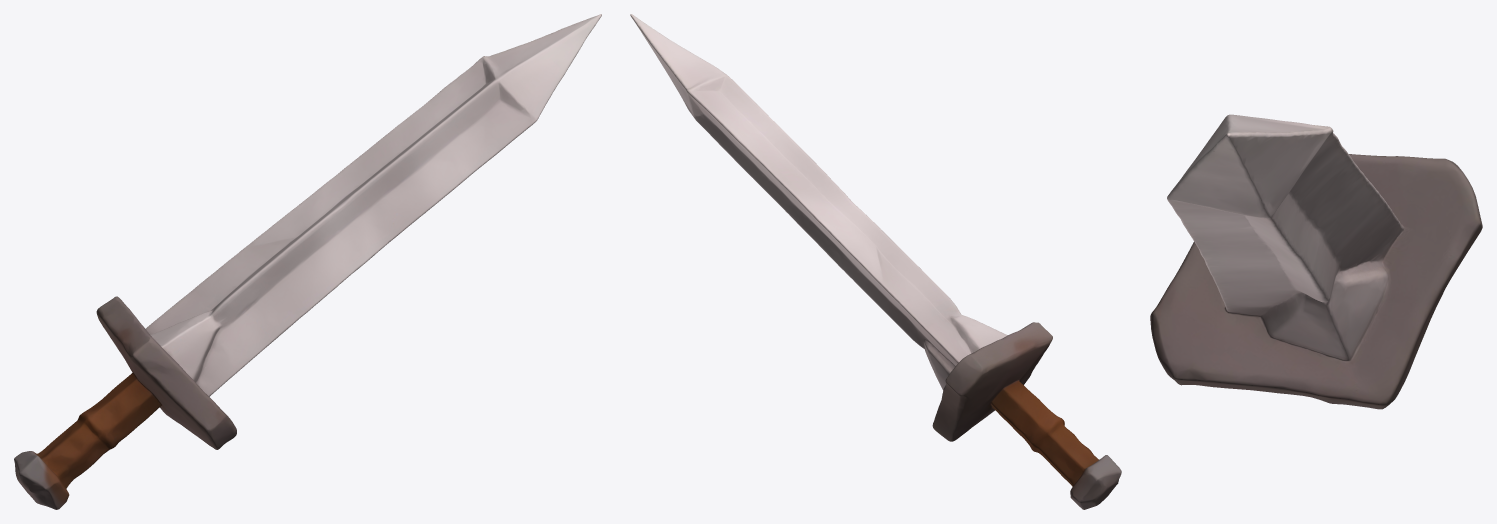
The model's file is medieval_sword.glb.
3 views of the same model, side by side, from view 1: azimuth 30°, elevation 25°; view 2: azimuth 150°, elevation 25°; view 3: azimuth 270°, elevation 25° (orthographic). The views are drawn at different scales.
Visible parts, largest first — view 1: tripo_node_23bb66e8-6fd9-4100-bd84-13f1e4ca77e5; view 2: tripo_node_23bb66e8-6fd9-4100-bd84-13f1e4ca77e5; view 3: tripo_node_23bb66e8-6fd9-4100-bd84-13f1e4ca77e5.
Part boxes in pixels (<box>): tripo_node_23bb66e8-6fd9-4100-bd84-13f1e4ca77e5: <box>14,14,601,509</box>; tripo_node_23bb66e8-6fd9-4100-bd84-13f1e4ca77e5: <box>630,14,1121,509</box>; tripo_node_23bb66e8-6fd9-4100-bd84-13f1e4ca77e5: <box>1150,114,1482,409</box>.
Size of the model in its own units: 1 by 0.6611 by 0.2798.
1 material, 1 textured.
